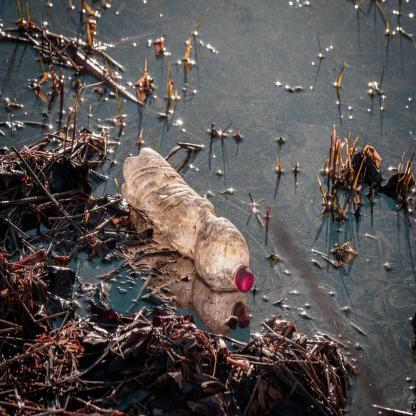Plastic: (122, 142, 256, 294)
